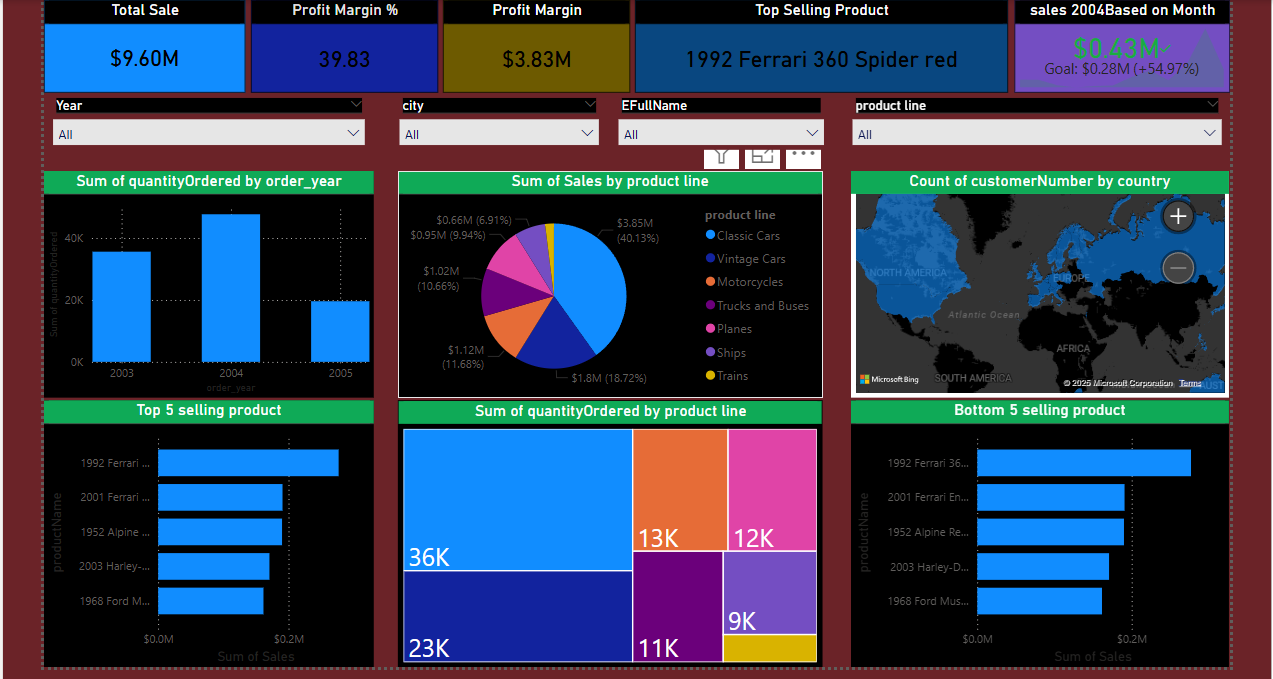

The page's visual inventory and layout, read from the dashboard file:
{"tool":"powerbi","page":{"name":"Page 1","canvas":[1280,720],"ordinal":0},"visuals":[{"type":"card","title":"Total Sale","fields":{"Values":["order details.total_profit"]},"box":[0,0,217.3,100.2],"z":0},{"type":"card","title":"Top Selling Product","fields":{"Values":["products.MostOrderedProduct"]},"box":[638.7,0,402.5,100.2],"z":1000},{"type":"barChart","title":"Top 5 selling product ","fields":{"Category":["products.productName"],"Y":["Sum(order details.Sales)"]},"box":[0,432.3,356.2,288.2],"z":2000},{"type":"pieChart","fields":{"Category":["product line.product line "],"Y":["Sum(order details.Sales)"]},"box":[382.1,184.6,458.2,244.5],"z":3000},{"type":"slicer","fields":{"Values":["Year Table.Year"]},"box":[0,100.4,356.2,61.5],"z":4000},{"type":"kpi","title":"sales 2004Based on Month","fields":{"TrendLine":["order.months"],"Indicator":["order.sales_2004"],"Goal":["order.sales_2003"]},"box":[1046.9,0,232.4,100.2],"z":5000},{"type":"columnChart","fields":{"Category":["order.order_year"],"Y":["Sum(order details.quantityOrdered)"]},"box":[0,184.6,356.2,244.5],"z":6000},{"type":"card","title":"Profit Margin  %","fields":{"Values":["order details.Profit Margin (%)"]},"box":[223,0,202.2,100.2],"z":7000},{"type":"treemap","fields":{"Values":["Sum(order details.quantityOrdered)"],"Group":["product line.product line "]},"box":[382.1,432.3,458.2,288.2],"z":8000},{"type":"card","title":"Profit Margin ","fields":{"Values":["order details.Profit Margin"]},"box":[430.9,0,202.2,100.2],"z":9000},{"type":"filledMap","fields":{"Category":["Customers.country"],"Y":["CountNonNull(Customers.customerNumber)"]},"box":[871.1,184.6,408,244.5],"z":10000},{"type":"slicer","fields":{"Values":["Offices.city"]},"box":[374,100.4,234.8,61.5],"z":11000},{"type":"slicer","fields":{"Values":["Employees.EFullName"]},"box":[610.4,100.4,241.3,61.5],"z":12000},{"type":"slicer","fields":{"Values":["product line.product line "]},"box":[862.2,100.4,417.8,61.5],"z":13000},{"type":"barChart","title":"Bottom 5 selling product","fields":{"Category":["products.productName"],"Y":["Sum(order details.Sales)"]},"box":[871.1,432.3,408,288.2],"z":14000}]}

Visuals, with their boxes in screenshot pixels (x1, y1, x2, y2):
"Total Sale" card: 36,20,239,113
"Top Selling Product" card: 631,20,1006,113
"Top 5 selling product " barChart: 36,422,368,678
pieChart - product line.product line  x Sum(order details.Sales): 392,192,819,419
slicer - Year Table.Year: 36,113,368,171
"sales 2004Based on Month" kpi: 1011,20,1227,113
columnChart - order.order_year x Sum(order details.quantityOrdered): 36,192,368,419
"Profit Margin  %" card: 244,20,432,113
treemap - Sum(order details.quantityOrdered) x product line.product line : 392,422,819,678
"Profit Margin " card: 438,20,626,113
filledMap - Customers.country x CountNonNull(Customers.customerNumber): 847,192,1227,419
slicer - Offices.city: 385,113,603,171
slicer - Employees.EFullName: 605,113,829,171
slicer - product line.product line : 839,113,1228,171
"Bottom 5 selling product" barChart: 847,422,1227,678
